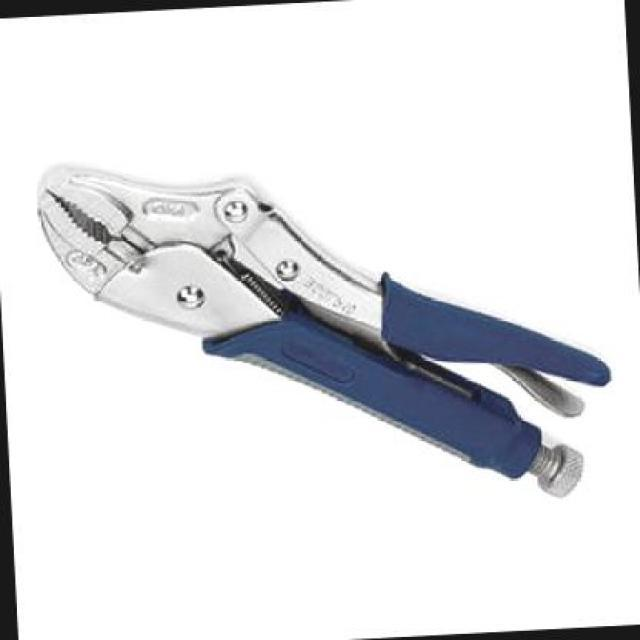pliers: (27, 116, 624, 530)
